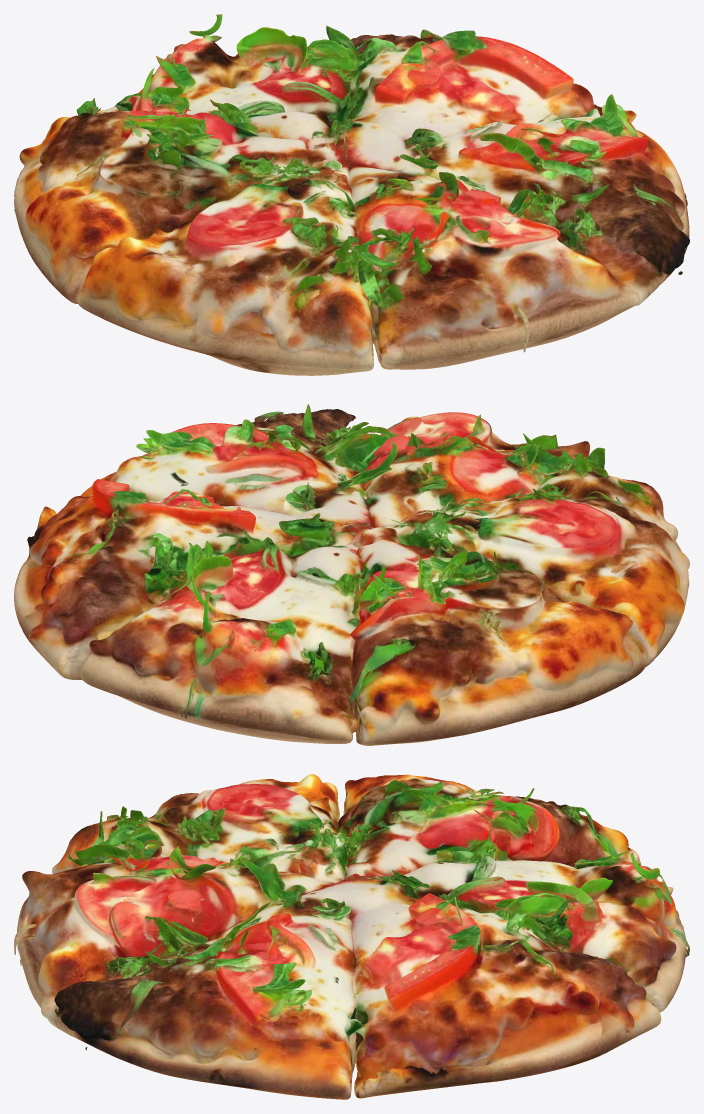
File: Margherita_pizza.glb
The picture shows the model from 3 angles, top to bottom: view 1: azimuth 30°, elevation 25°; view 2: azimuth 150°, elevation 25°; view 3: azimuth 270°, elevation 25°; orthographic projection.
Bounding box in the file's own units: 1.89 × 0.4647 × 1.9.
Materials: 1 (1 with a texture image).
